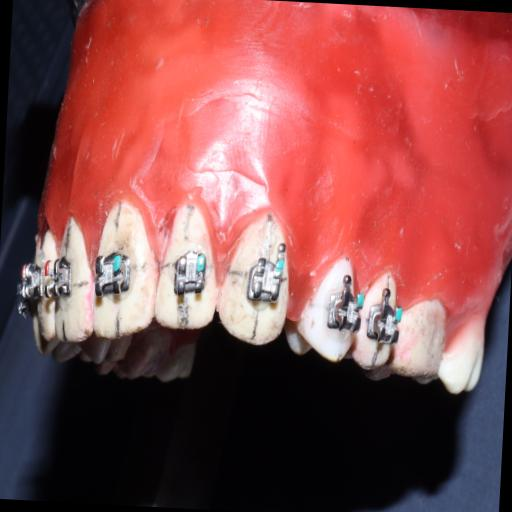incorrect_brace: (154, 196, 222, 332), (246, 255, 284, 310), (174, 246, 208, 300)
